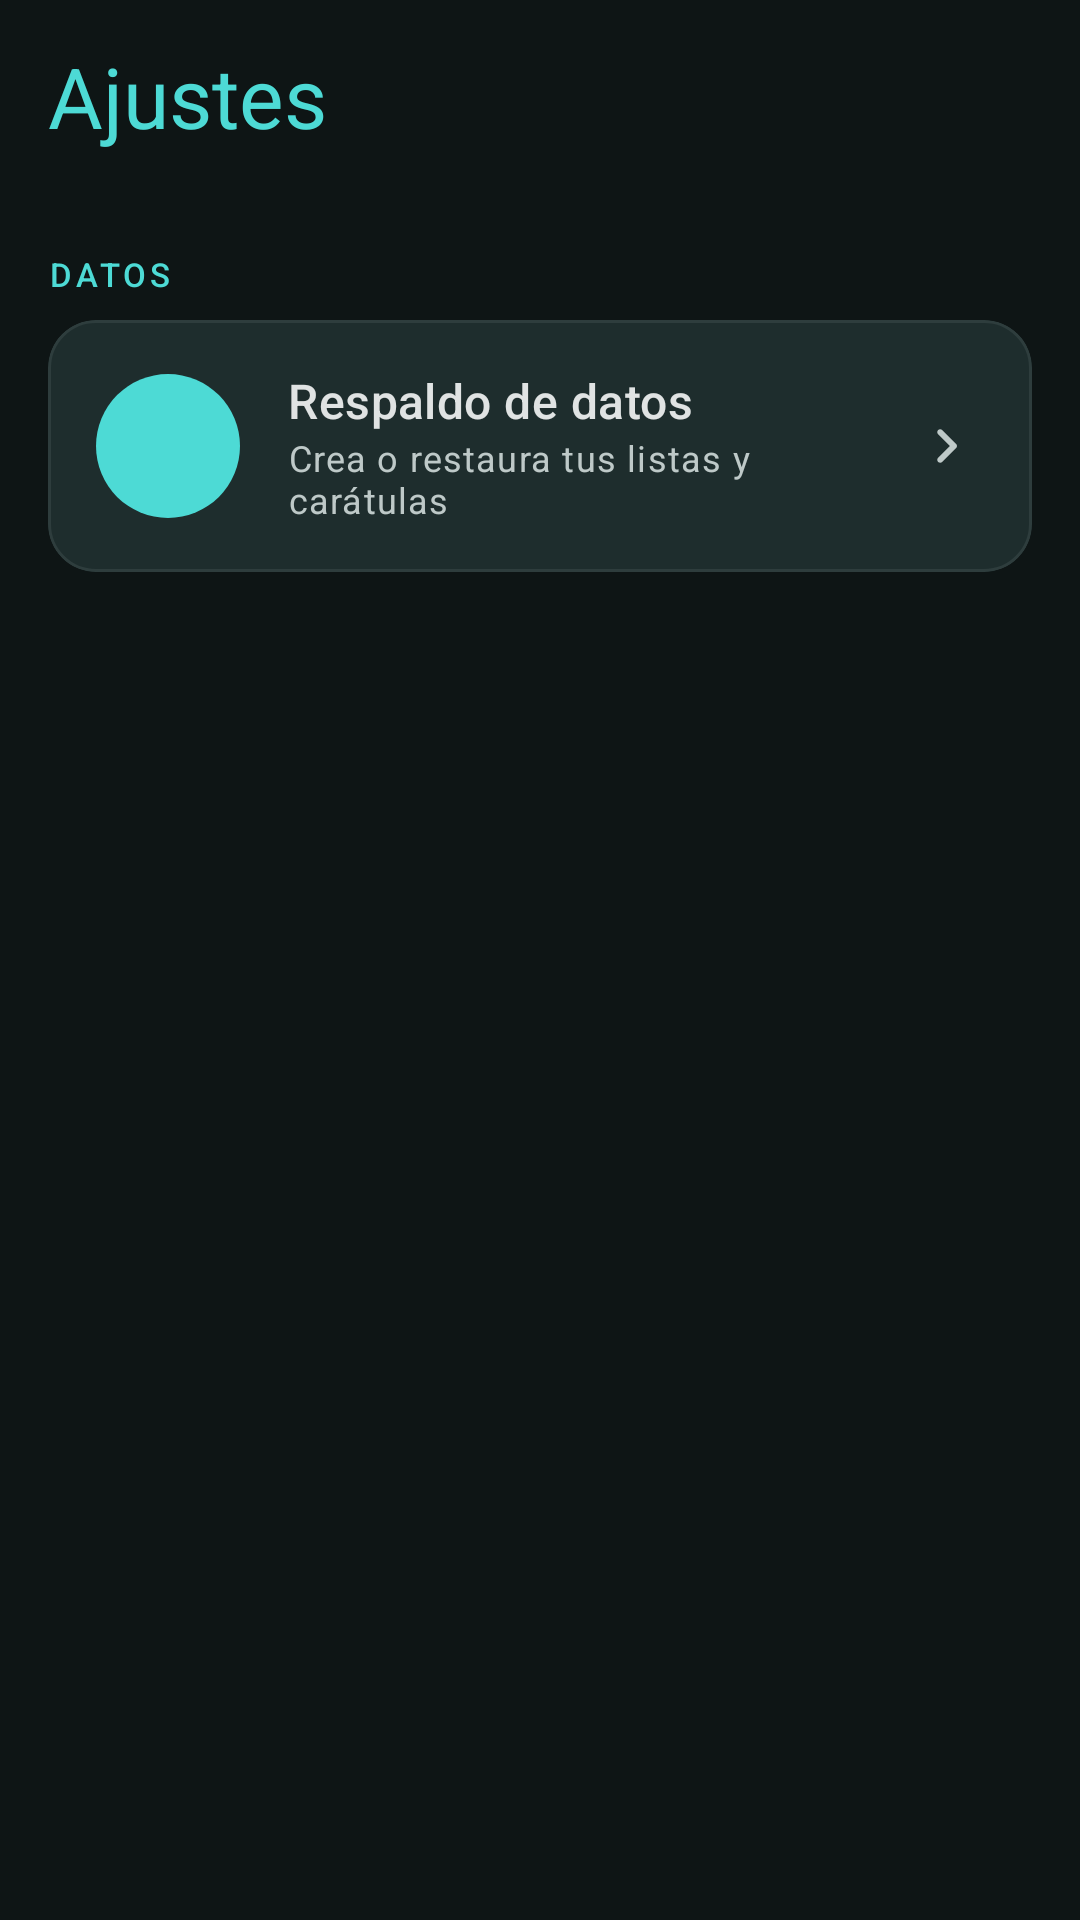

Named icons in this screenshot (1080px×1920px) and their bounding boxes, (x1, y1, x2, y2):
Abrir: (937, 429, 957, 463)
